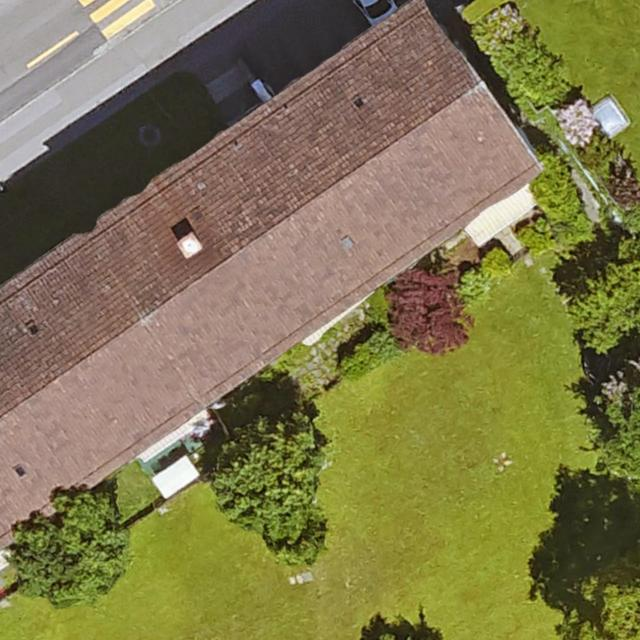tree: (216, 413, 326, 567), (11, 489, 125, 601), (571, 238, 640, 356), (387, 264, 472, 354), (562, 563, 640, 640), (591, 387, 640, 491)
